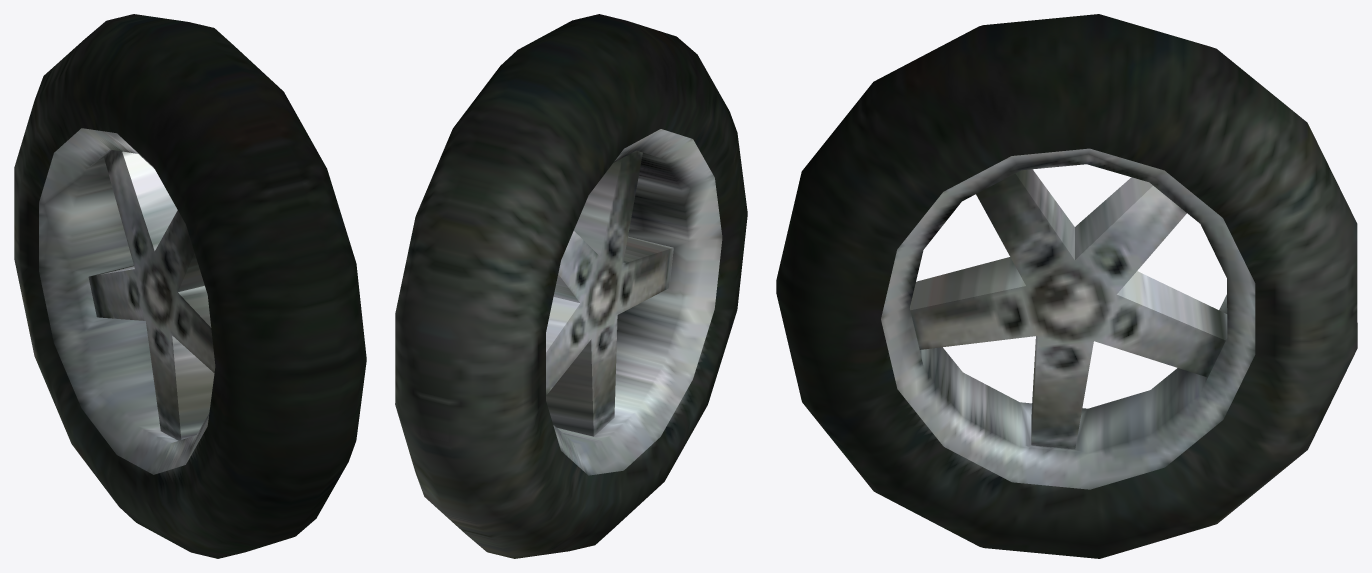
Rendered from moto_llanta.obj.
The picture shows the model from 3 angles, left to right: view 1: azimuth 30°, elevation 25°; view 2: azimuth 150°, elevation 25°; view 3: azimuth 270°, elevation 25°; orthographic projection. The views are drawn at different scales.
Visible parts, largest first — view 1: llanta; view 2: llanta; view 3: llanta.
Part boxes in pixels (<box>): llanta: <box>14,14,366,558</box>; llanta: <box>395,14,747,558</box>; llanta: <box>776,14,1357,558</box>.
Size of the model in its own units: 0.4217 by 1.53 by 1.52.
